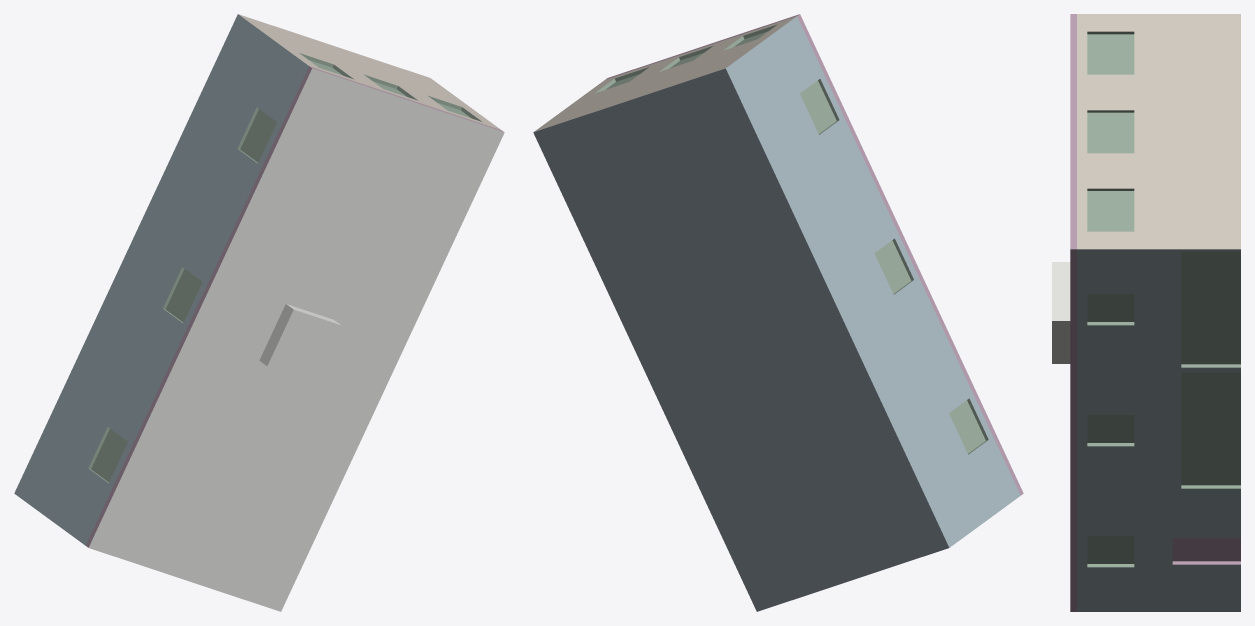
The model's file is doitt-262867__lod_0.glb.
3 views of the same model, side by side, from view 1: azimuth 30°, elevation 25°; view 2: azimuth 150°, elevation 25°; view 3: azimuth 270°, elevation 25° (orthographic). The views are drawn at different scales.
Bounding box in the file's own units: 26.41 × 32.5 × 9.04.
